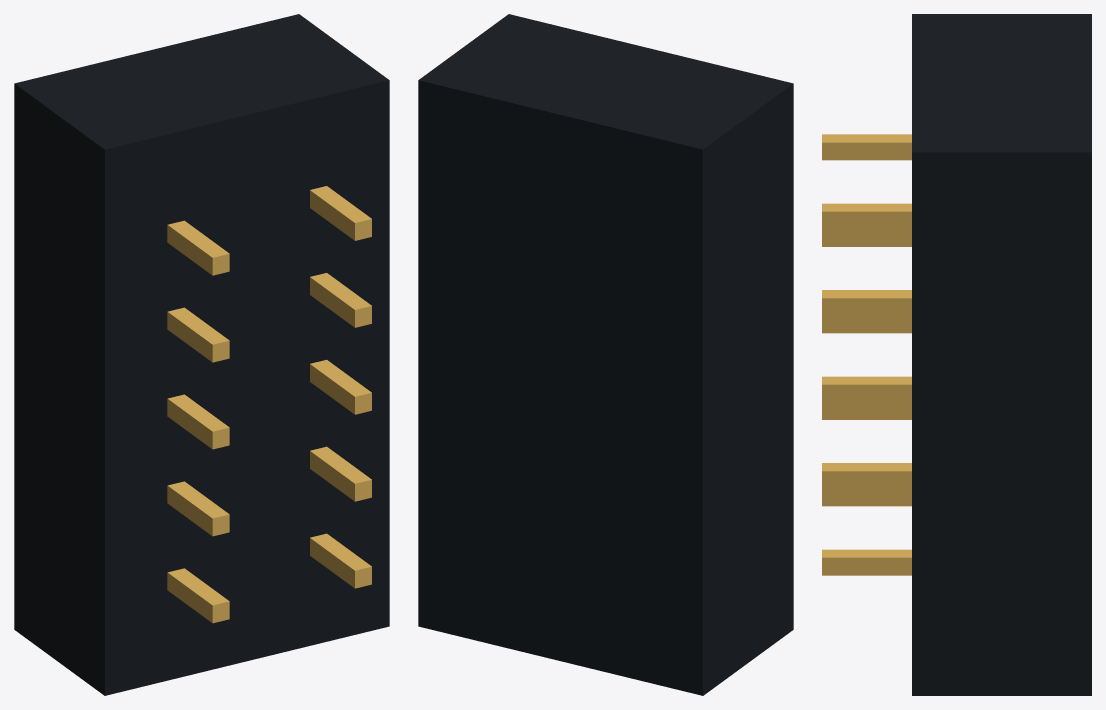
3 renders of one model, left to right at view 1: azimuth 30°, elevation 25°; view 2: azimuth 150°, elevation 25°; view 3: azimuth 270°, elevation 25°, orthographic.
Parts seen in each view (by area): view 1: J4; view 2: J4; view 3: J4.
Part boxes in pixels (x1,y1,x2,y2): J4: [14, 14, 389, 695]; J4: [418, 14, 793, 695]; J4: [822, 14, 1091, 695].
Size of the model in its own units: 0.006 by 0.011 by 0.00495.
